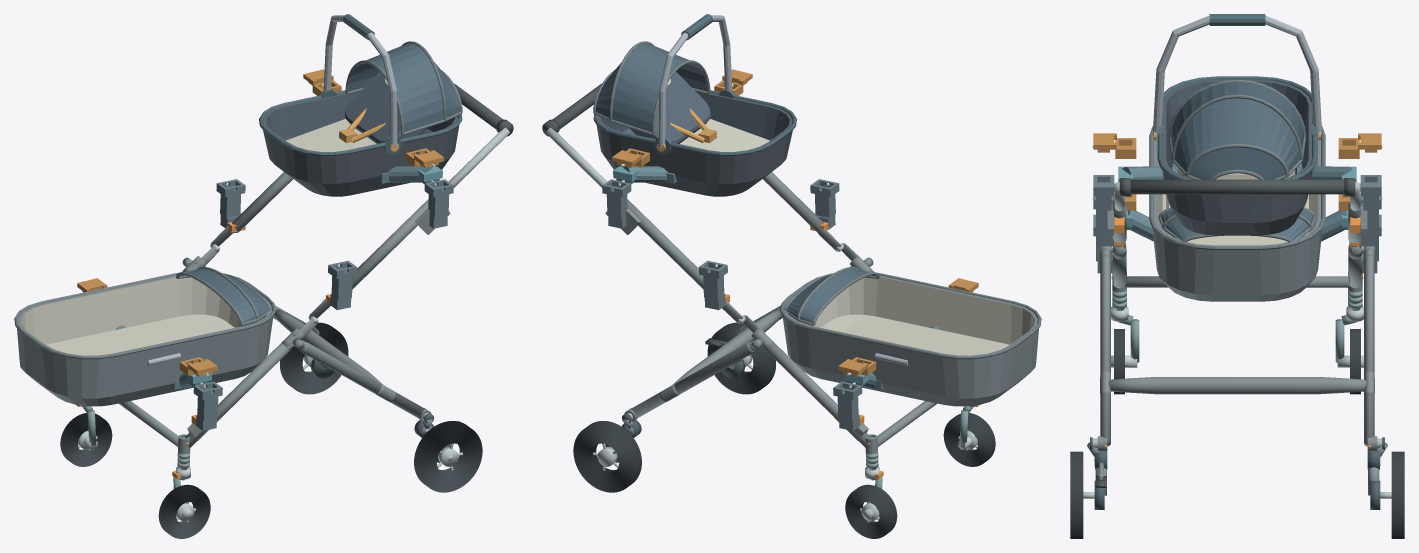
File: D07_w650_state1_wheel_S.glb
3 renders of one model, left to right at view 1: azimuth 30°, elevation 25°; view 2: azimuth 150°, elevation 25°; view 3: azimuth 270°, elevation 25°, orthographic. The views are drawn at different scales.
Parts seen in each view (by area): view 1: D07_Lower, D07_Upper, RL_tire.008, RR_tire.008, FL_tire.008, FR_tire.008, V46_rear_leg_-1.009, main_lower_-1.009, main_upper_-1.009, V46_rearbar.009, Universal_Cabin_Receiver_L_-1, Universal_Cabin_Receiver_M_-1 (+7 smaller); view 2: D07_Lower, D07_Upper, RR_tire.008, FR_tire.008, RL_tire.008, FL_tire.008, V46_rear_leg_1.009, main_lower_1.009, main_upper_1.009, V46_rearbar.009, Universal_Cabin_Receiver_L_1, Universal_Cabin_Receiver_M_1 (+7 smaller); view 3: D07_Upper, D07_Lower, V46_rearbar.009, round_handle.008, V46_rear_leg_1.009, V46_rear_leg_-1.009, D07_Upper_Mount_H, RL_tire.008, RR_tire.008, D07_Lower_Mount_L, Universal_Cabin_Receiver_H_1, Universal_Cabin_Receiver_H_-1 (+7 smaller).
Part boxes in pixels (x1,y1,x2,y2): D07_Lower: (14,266,275,406); D07_Upper: (259,14,462,196); RL_tire.008: (414,421,482,492); RR_tire.008: (280,322,348,394); FL_tire.008: (158,484,210,538); FR_tire.008: (60,413,112,466); V46_rear_leg_-1.009: (301,342,424,418); main_lower_-1.009: (185,343,292,447); main_upper_-1.009: (352,199,428,289); V46_rearbar.009: (273,309,383,384); Universal_Cabin_Receiver_L_-1: (193,381,222,430); Universal_Cabin_Receiver_M_-1: (328,260,357,310); D07_Lower: (780,266,1041,406); D07_Upper: (593,14,796,196); RR_tire.008: (573,421,641,492); FR_tire.008: (845,484,897,538); RL_tire.008: (707,322,775,394); FL_tire.008: (943,413,995,466); V46_rear_leg_1.009: (631,342,754,418); main_lower_1.009: (763,343,870,447); main_upper_1.009: (627,199,703,289); V46_rearbar.009: (672,309,782,384); Universal_Cabin_Receiver_L_1: (833,381,862,430); Universal_Cabin_Receiver_M_1: (698,260,727,310); D07_Upper: (1152,14,1322,235); D07_Lower: (1149,125,1325,301); V46_rearbar.009: (1108,377,1366,394); round_handle.008: (1119,179,1355,194); V46_rear_leg_1.009: (1364,254,1374,446); V46_rear_leg_-1.009: (1100,254,1110,446); D07_Upper_Mount_H: (1114,163,1360,185); RL_tire.008: (1070,451,1083,538); RR_tire.008: (1391,451,1404,538); D07_Lower_Mount_L: (1126,210,1348,241); Universal_Cabin_Receiver_H_1: (1360,175,1381,233); Universal_Cabin_Receiver_H_-1: (1093,175,1114,233).
Bounding box in the file's own units: 1.37 × 1.28 × 0.766.
